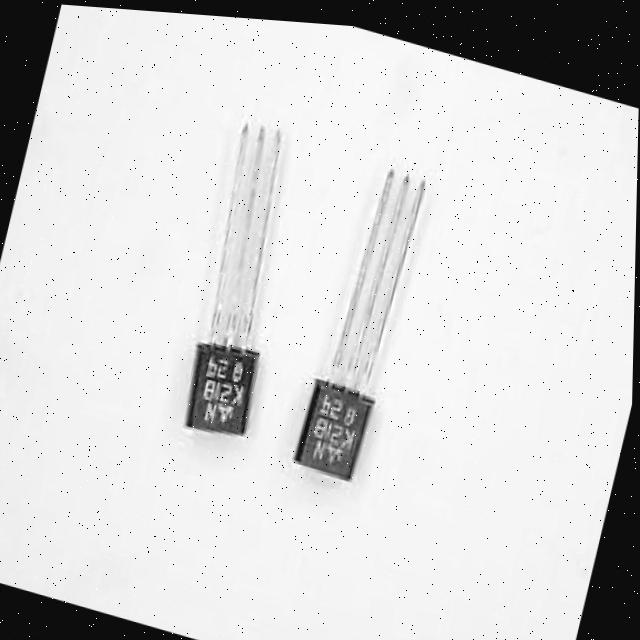Transistor: (282, 140, 449, 488), (177, 111, 296, 447)
